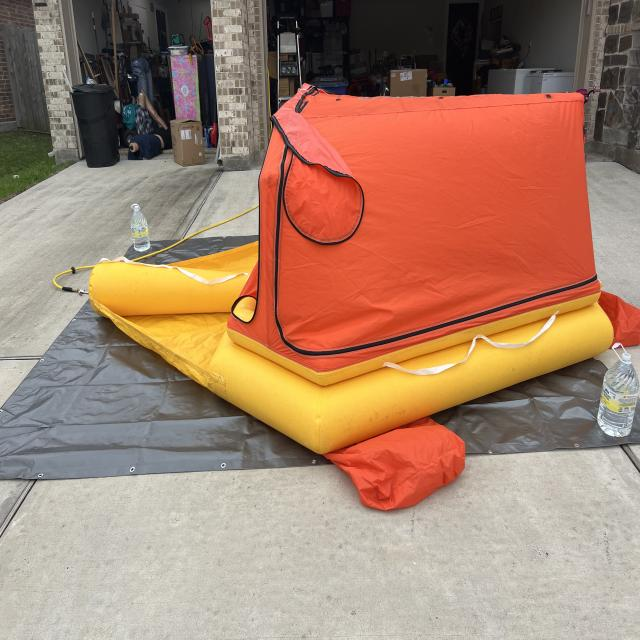Multi-person_life_raft: (87, 80, 640, 513)
